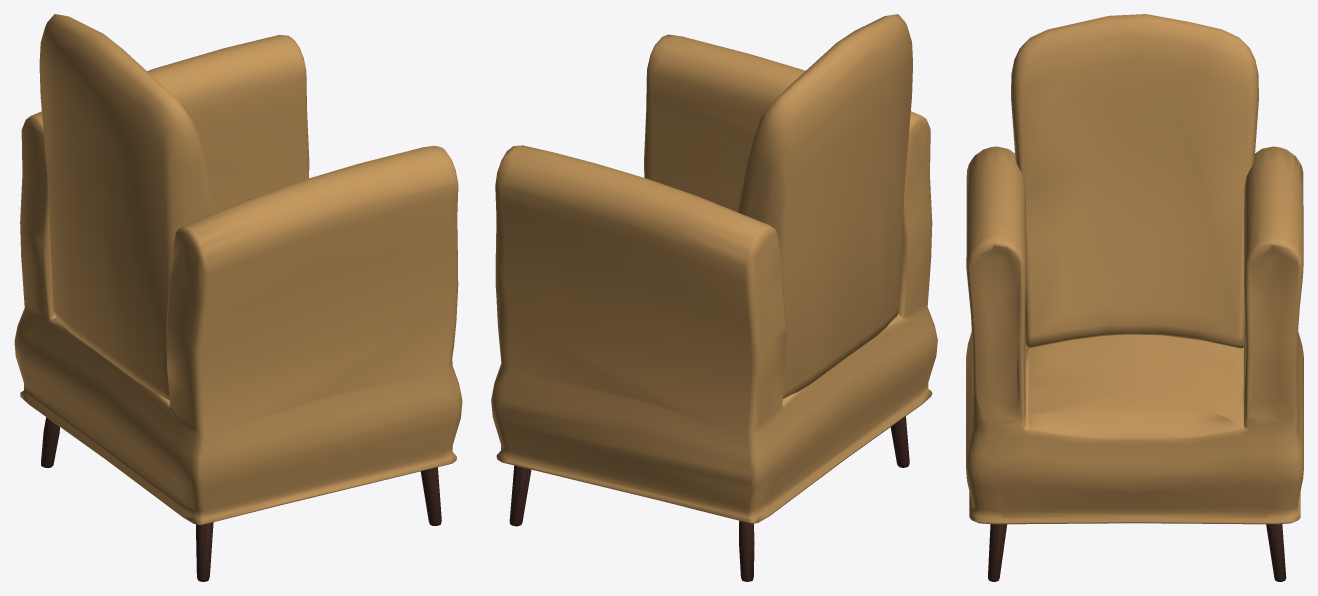
File: WickerChair2.fbx
3 renders of one model, left to right at view 1: azimuth 30°, elevation 25°; view 2: azimuth 150°, elevation 25°; view 3: azimuth 270°, elevation 25°, orthographic. The views are drawn at different scales.
Parts seen in each view (by area): view 1: Cylinder.047; view 2: Cylinder.047; view 3: Cylinder.047.
Part boxes in pixels (x1,y1,x2,y2): Cylinder.047: [14, 14, 462, 581]; Cylinder.047: [491, 14, 937, 581]; Cylinder.047: [966, 14, 1303, 581].
Bounding box in the file's own units: 921 × 1480 × 1003.
